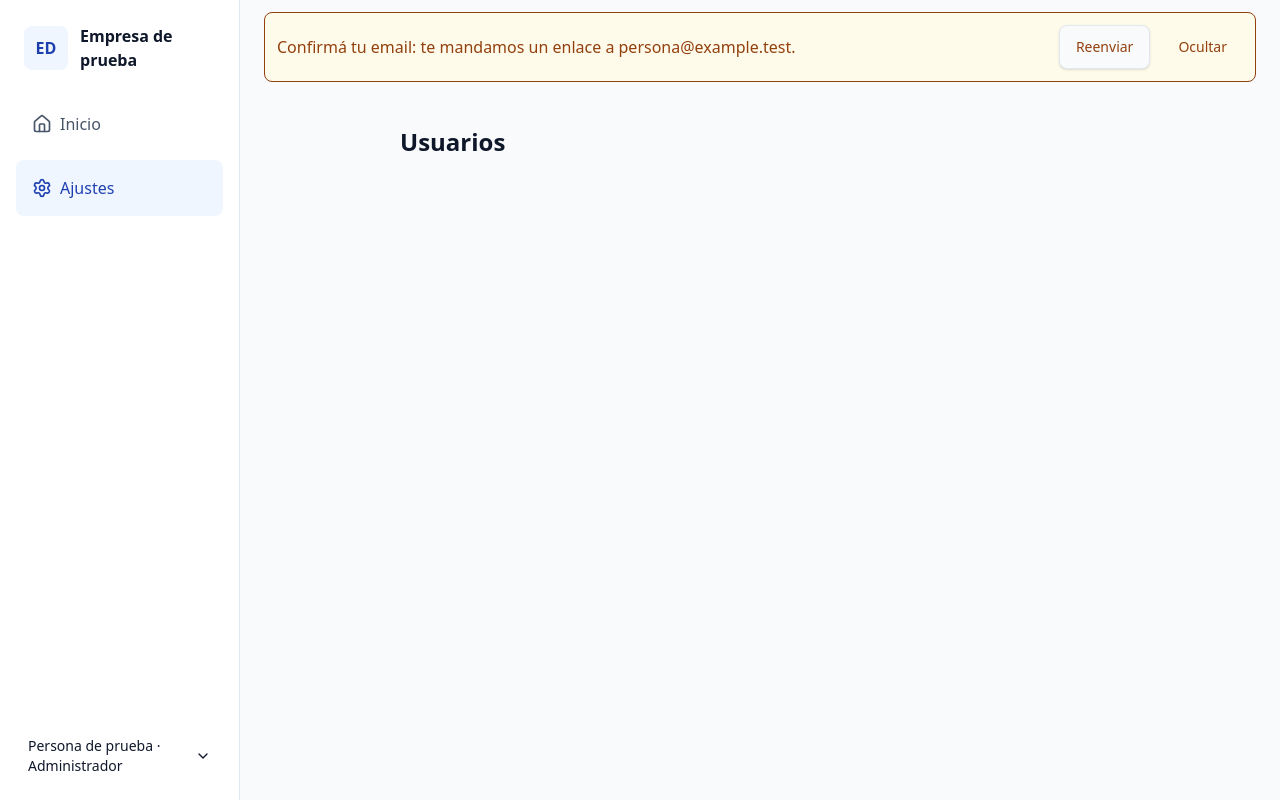
EmailVerificationBanner › shows both title and description for other resend errors
Check: the text "Confirmá tu email:" is shown, box [277,36,618,58]
Click the button "Reenviar". click: x=1105, y=47
box: [1059,25,1150,69]
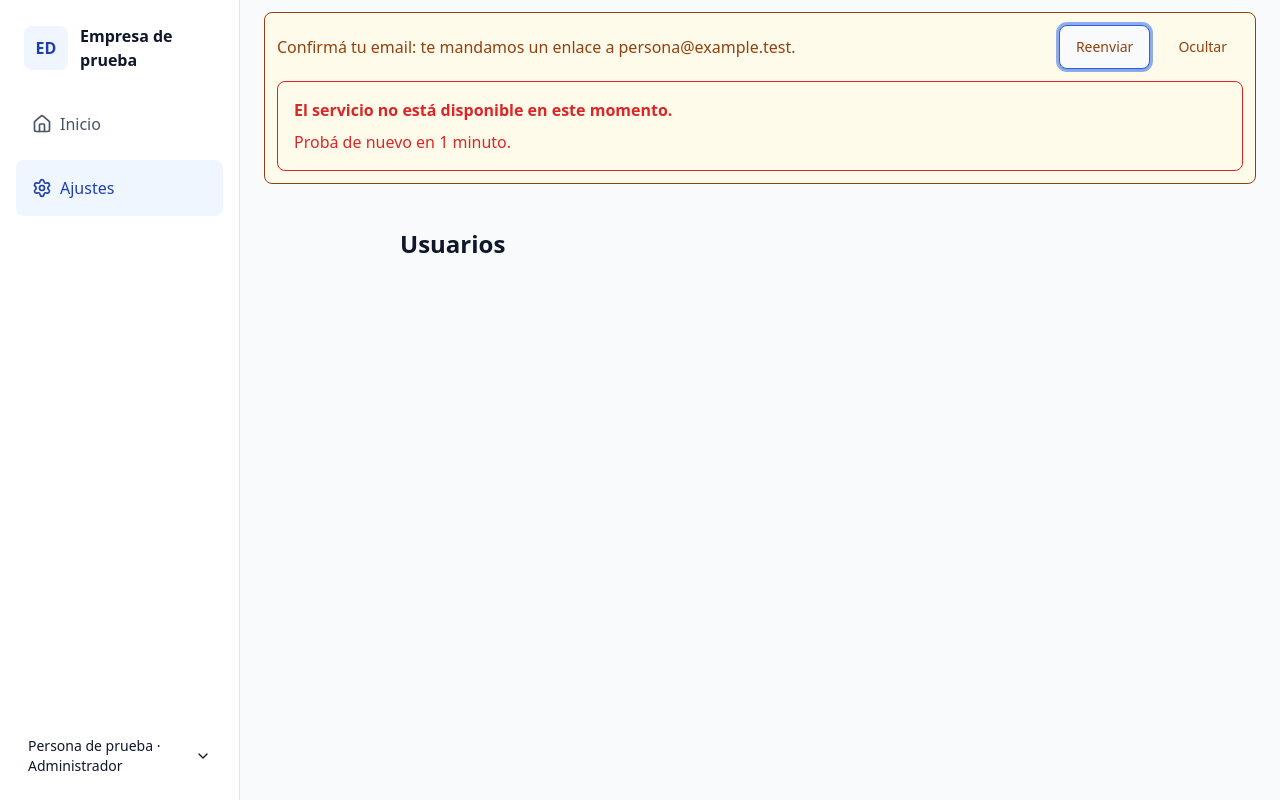
Check: the message shows "El servicio no está disponible en este momento.", box [294,99,672,121]
Check: the message shows "Probá de nuevo en 1 minuto.", box [294,131,511,153]
